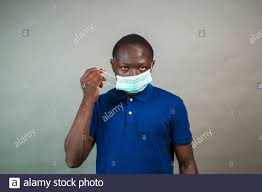masked: (98, 32, 165, 98)
